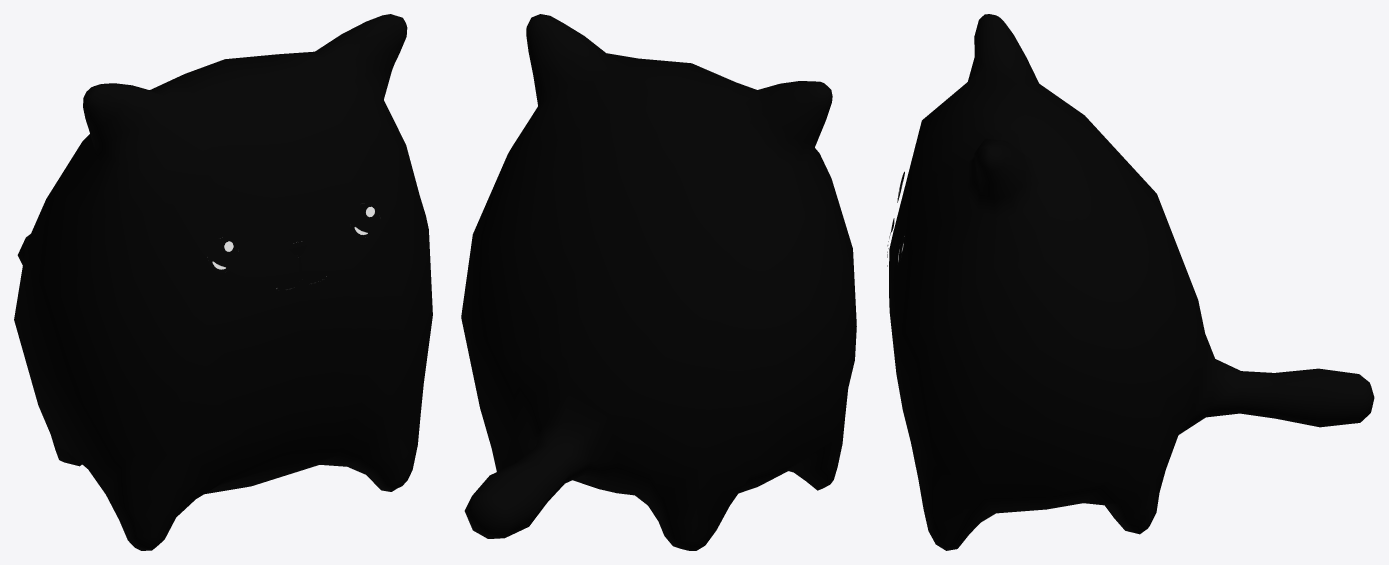
Rendered from Mesh_WatermelonCat05.fbx.
The picture shows the model from 3 angles, left to right: view 1: azimuth 30°, elevation 25°; view 2: azimuth 150°, elevation 25°; view 3: azimuth 270°, elevation 25°; orthographic projection. The views are drawn at different scales.
Parts seen in each view (by area): view 1: polySurface1, pPlane1; view 2: polySurface1; view 3: polySurface1.
Part boxes in pixels (left/top/right/bottom): polySurface1: left=14, top=14, right=432, bottom=550; pPlane1: left=207, top=203, right=380, bottom=272; polySurface1: left=461, top=14, right=856, bottom=550; polySurface1: left=889, top=14, right=1374, bottom=550.
Bounding box in the file's own units: 15.42 × 18.16 × 19.48.
Materials: 3 (2 with a texture image).
